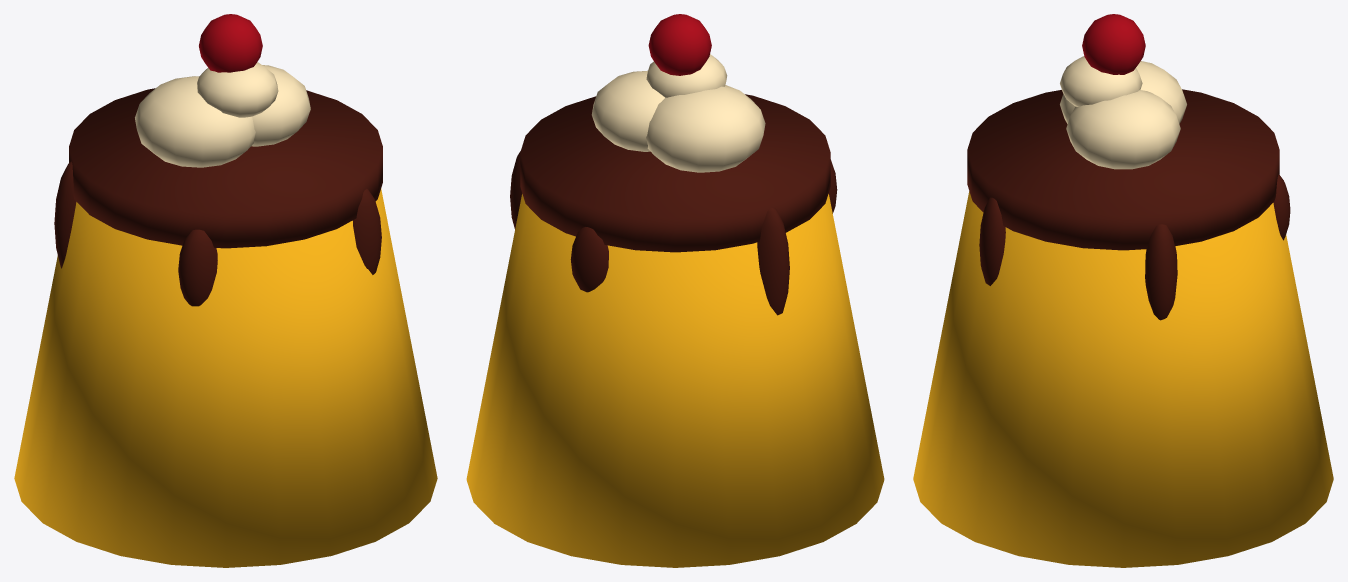
Rendered from pudding.fbx.
3 renders of one model, left to right at view 1: azimuth 30°, elevation 25°; view 2: azimuth 150°, elevation 25°; view 3: azimuth 270°, elevation 25°, orthographic.
Visible parts, largest first — view 1: pudding; view 2: pudding; view 3: pudding.
Boxes of the visible parts, <box> form: pudding: <box>14,14,437,567</box>; pudding: <box>466,14,884,567</box>; pudding: <box>913,14,1333,567</box>.
Size of the model in its own units: 82.5 by 100 by 82.5.
Materials: 1 (1 with a texture image).
